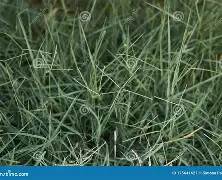weed: (0, 0, 221, 165)
